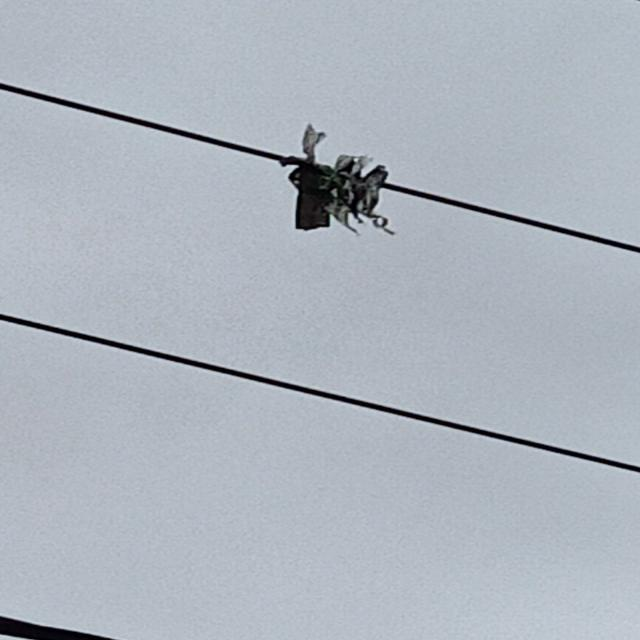植被遮挡: (271, 121, 415, 236)
